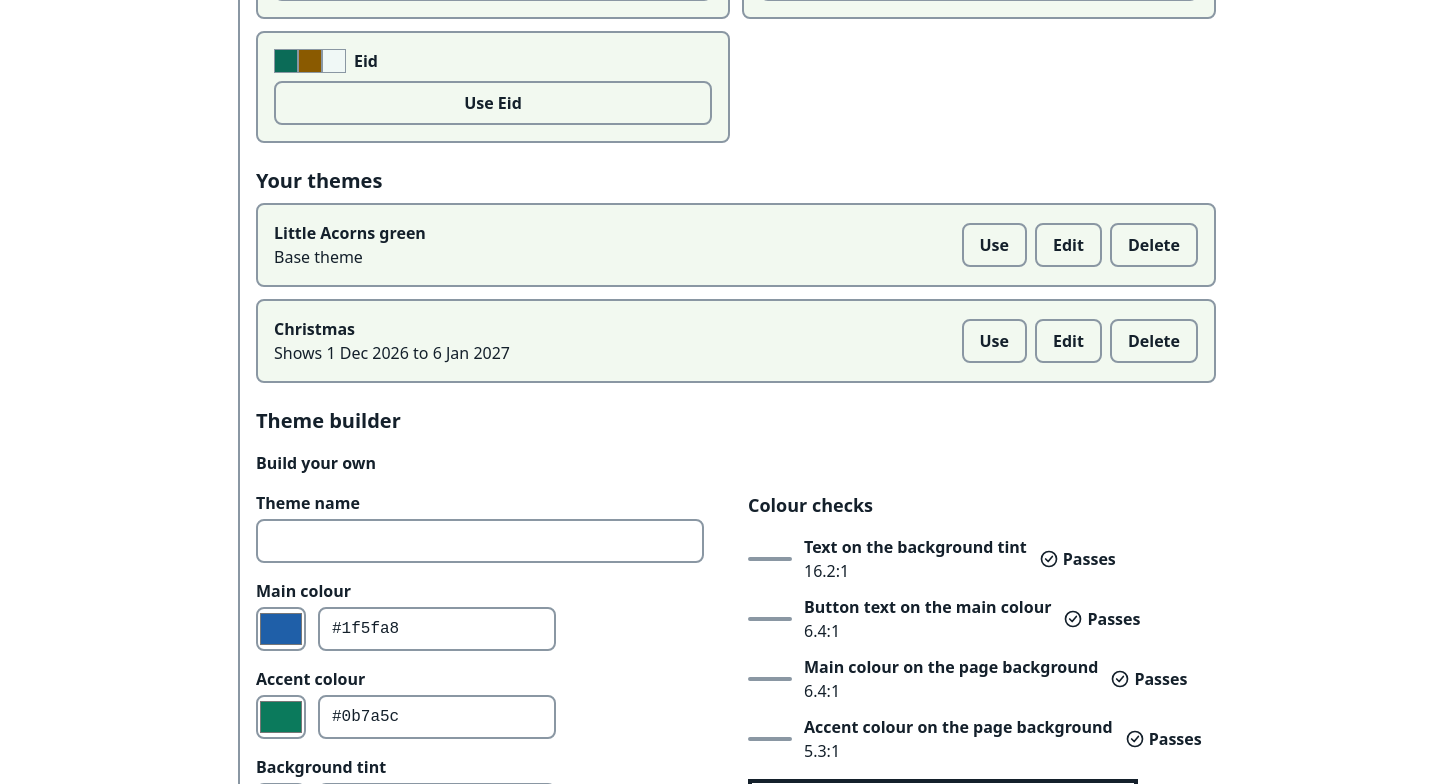
Test: C17 Themes page (BP-7) › deletes a theme and updates the list and the count
(page scrolled)
Click the button with aria-label "Delete Christmas". click: [1154, 341]
box: [1110, 319, 1198, 363]
(page scrolled)
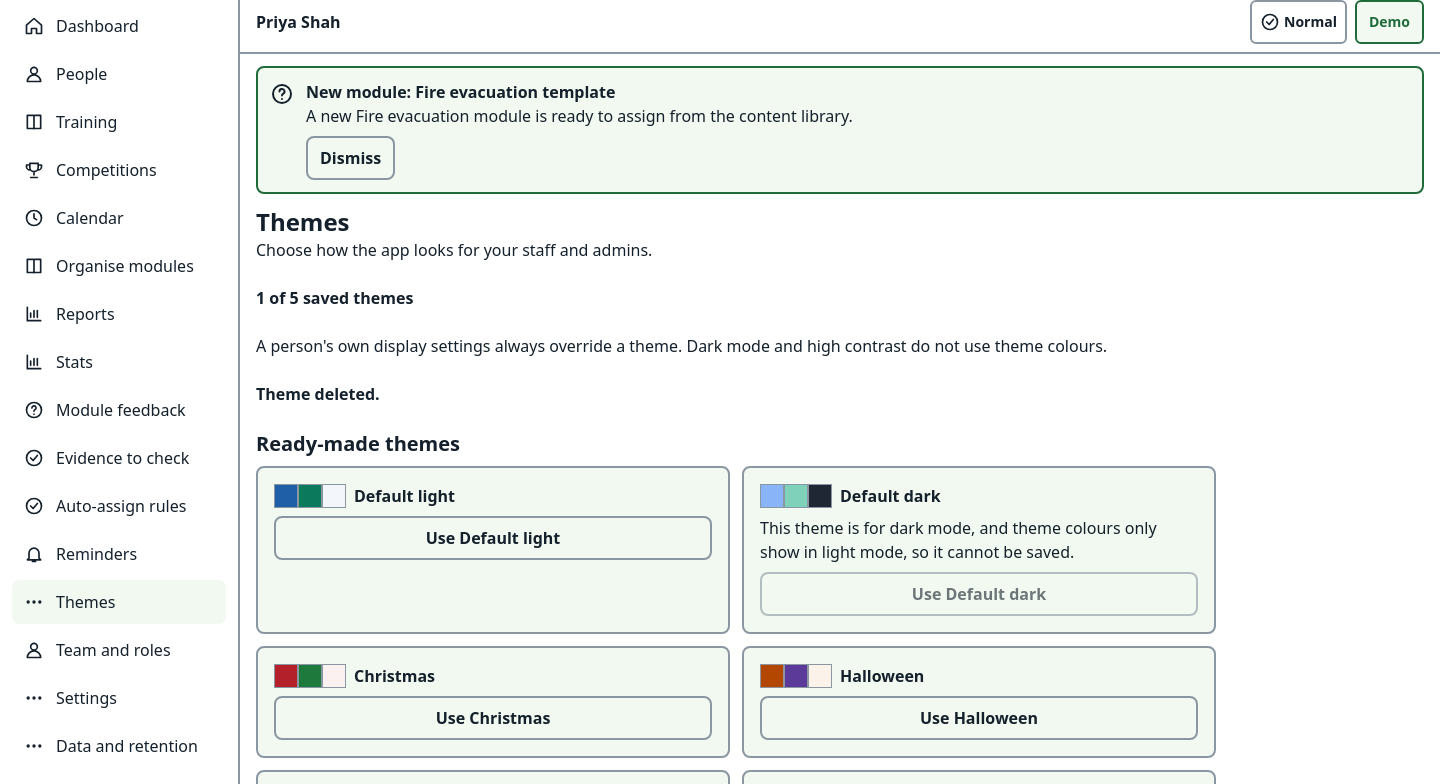
Result: the text with test id "saved-count" reads "1 of 5 saved themes" at [256, 287, 413, 309]
